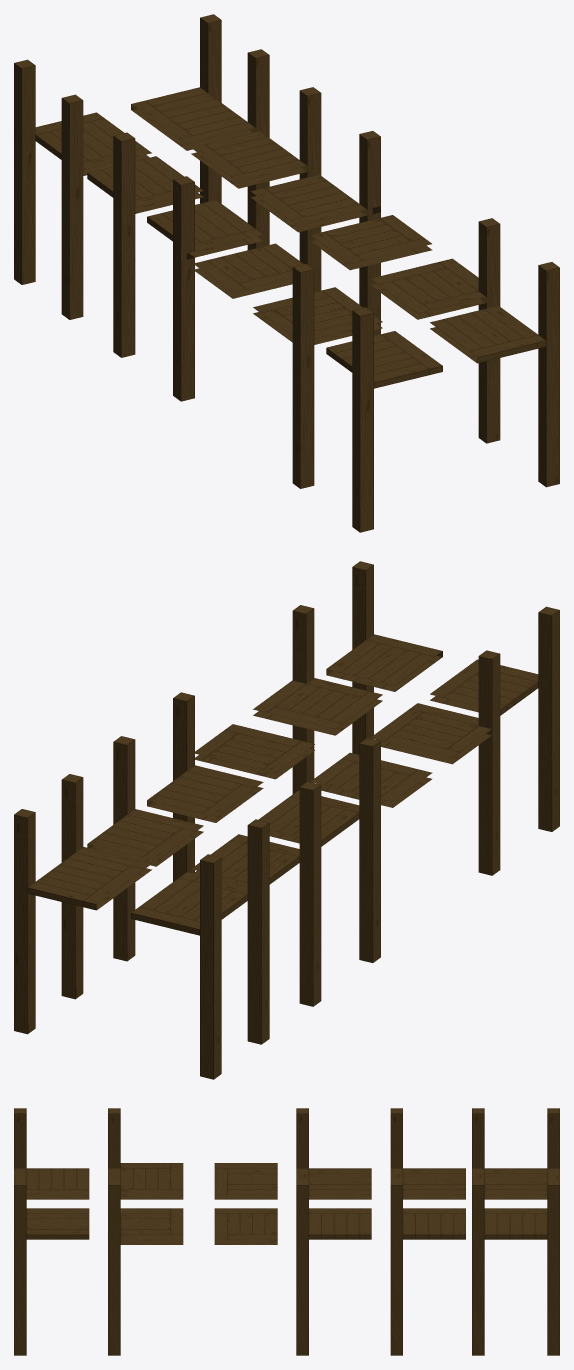
Rendered from new Modular Pier 1.1.fbx.
3 renders of one model, top to bottom at view 1: azimuth 30°, elevation 25°; view 2: azimuth 150°, elevation 25°; view 3: azimuth 270°, elevation 25°, orthographic. The views are drawn at different scales.
Visible parts, largest first — view 1: Modular Pier Start R, Modular Pier Start L, Modular Pier End R, Modular Pier Fork End L, Modular Pier Fork End R, Modular Pier End L, Modular Pier Fork Start R, Modular Pier Middle R, Modular Pier Middle L, Modular Pier Fork Start L, Modular Pier Fork Middle L, Modular Pier Fork Middle R; view 2: Modular Pier Start R, Modular Pier Start L, Modular Pier Fork End R, Modular Pier End L, Modular Pier Fork Start R, Modular Pier Middle R, Modular Pier Fork End L, Modular Pier Middle L, Modular Pier End R, Modular Pier Fork Start L, Modular Pier Fork Middle L, Modular Pier Fork Middle R; view 3: Modular Pier Start L, Modular Pier Fork End L, Modular Pier End R, Modular Pier Middle L, Modular Pier Fork Start L, Modular Pier Start R, Modular Pier Fork End R, Modular Pier End L, Modular Pier Middle R, Modular Pier Fork Start R, Modular Pier Fork Middle R, Modular Pier Fork Middle L.
Boxes of the visible parts, x1=… form: Modular Pier Start R: x1=14, y1=59, x2=151, y2=319; Modular Pier Start L: x1=131, y1=14, x2=269, y2=249; Modular Pier End R: x1=430, y1=262, x2=559, y2=487; Modular Pier Fork End L: x1=370, y1=218, x2=500, y2=443; Modular Pier Fork End R: x1=253, y1=263, x2=382, y2=488; Modular Pier End L: x1=326, y1=307, x2=442, y2=532; Modular Pier Fork Start R: x1=147, y1=176, x2=263, y2=401; Modular Pier Middle R: x1=87, y1=132, x2=203, y2=357; Modular Pier Middle L: x1=191, y1=87, x2=321, y2=292; Modular Pier Fork Start L: x1=251, y1=131, x2=380, y2=335; Modular Pier Fork Middle L: x1=310, y1=215, x2=432, y2=270; Modular Pier Fork Middle R: x1=193, y1=243, x2=314, y2=298; Modular Pier Start R: x1=131, y1=819, x2=269, y2=1079; Modular Pier Start L: x1=14, y1=774, x2=151, y2=1034; Modular Pier Fork End R: x1=370, y1=650, x2=500, y2=875; Modular Pier End L: x1=430, y1=606, x2=559, y2=831; Modular Pier Fork Start R: x1=258, y1=737, x2=380, y2=962; Modular Pier Middle R: x1=191, y1=781, x2=321, y2=1006; Modular Pier Fork End L: x1=253, y1=605, x2=382, y2=793; Modular Pier Middle L: x1=87, y1=736, x2=203, y2=961; Modular Pier End R: x1=326, y1=561, x2=442, y2=754; Modular Pier Fork Start L: x1=147, y1=692, x2=263, y2=881; Modular Pier Fork Middle L: x1=195, y1=724, x2=314, y2=779; Modular Pier Fork Middle R: x1=310, y1=752, x2=432, y2=807; Modular Pier Start L: x1=472, y1=1180, x2=559, y2=1355; Modular Pier Fork End L: x1=108, y1=1180, x2=183, y2=1355; Modular Pier End R: x1=14, y1=1180, x2=89, y2=1355; Modular Pier Middle L: x1=390, y1=1180, x2=465, y2=1355; Modular Pier Fork Start L: x1=296, y1=1180, x2=371, y2=1355; Modular Pier Start R: x1=472, y1=1108, x2=559, y2=1199; Modular Pier Fork End R: x1=108, y1=1108, x2=183, y2=1199; Modular Pier End L: x1=14, y1=1108, x2=89, y2=1199; Modular Pier Middle R: x1=390, y1=1108, x2=465, y2=1199; Modular Pier Fork Start R: x1=296, y1=1108, x2=371, y2=1199; Modular Pier Fork Middle R: x1=214, y1=1163, x2=277, y2=1199; Modular Pier Fork Middle L: x1=214, y1=1208, x2=277, y2=1244.
Bounding box in the file's own units: 580 × 600 × 1740.
